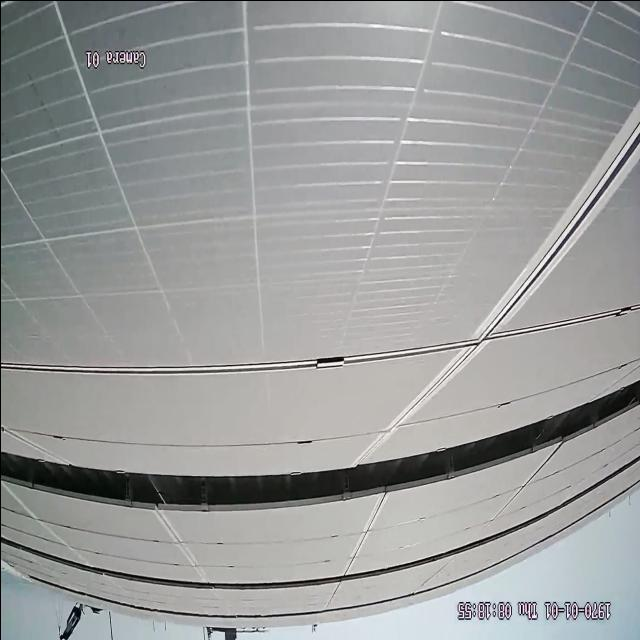interior panel: (5, 101, 640, 456), (151, 519, 205, 569), (345, 502, 386, 564)
outher panel: (0, 380, 639, 507)
